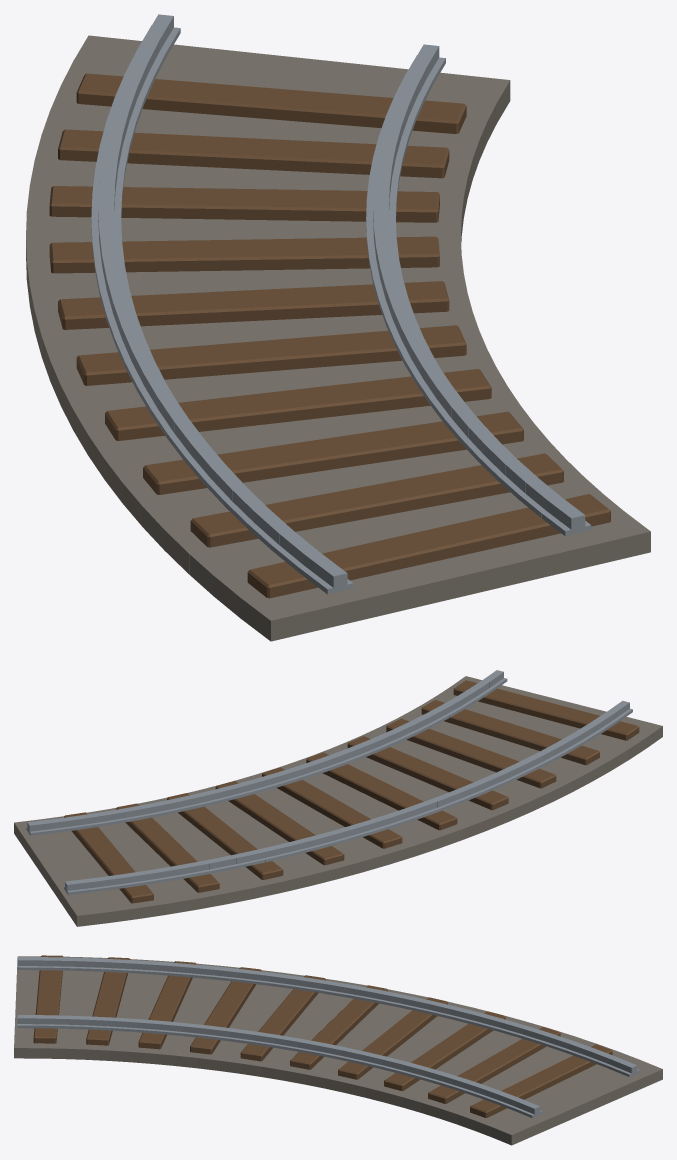
File: rail_virage_45.glb
The picture shows the model from 3 angles, top to bottom: view 1: azimuth 30°, elevation 25°; view 2: azimuth 150°, elevation 25°; view 3: azimuth 270°, elevation 25°; orthographic projection. The views are drawn at different scales.
Visible parts, largest first — view 1: rail_ballast.010, rail_traverse.010, rail_rail.010; view 2: rail_ballast.010, rail_traverse.010, rail_rail.010; view 3: rail_ballast.010, rail_traverse.010, rail_rail.010.
Part boxes in pixels (left/top/right/bottom): rail_ballast.010: left=26, top=35, right=650, bottom=641; rail_traverse.010: left=49, top=73, right=610, bottom=598; rail_rail.010: left=91, top=14, right=591, bottom=594; rail_ballast.010: left=14, top=676, right=662, bottom=926; rail_traverse.010: left=64, top=680, right=639, bottom=903; rail_rail.010: left=26, top=670, right=632, bottom=895; rail_ballast.010: left=14, top=956, right=662, bottom=1145; rail_traverse.010: left=33, top=955, right=612, bottom=1117; rail_rail.010: left=17, top=957, right=639, bottom=1117.
Size of what is drawn, in the model's own units: 1.85 by 0.12 by 2.84.
